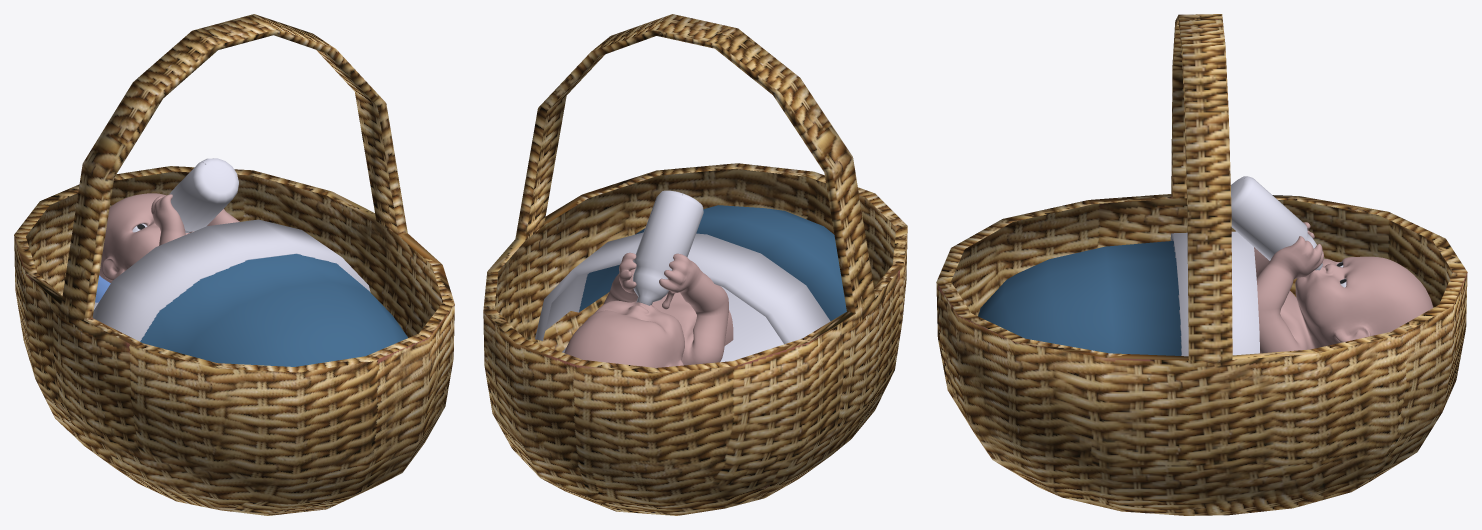
The model's file is Baby.glb.
The picture shows the model from 3 angles, left to right: view 1: azimuth 30°, elevation 25°; view 2: azimuth 150°, elevation 25°; view 3: azimuth 270°, elevation 25°; orthographic projection. The views are drawn at different scales.
Visible parts, largest first — view 1: LitBebe; view 2: LitBebe; view 3: LitBebe.
Part boxes in pixels (x1=…): LitBebe: x1=14, y1=14, x2=454, y2=515; LitBebe: x1=483, y1=14, x2=907, y2=515; LitBebe: x1=936, y1=14, x2=1467, y2=515.
Bounding box in the file's own units: 1.81 × 2.3 × 2.43.
1 material, 1 textured.
